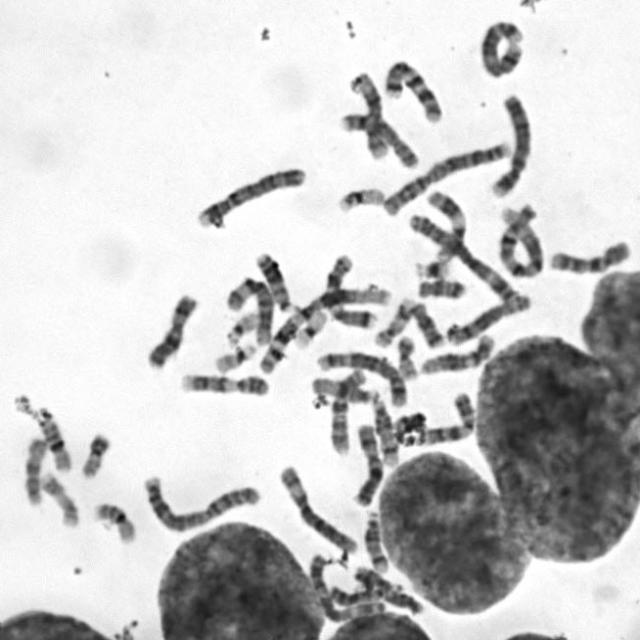A1: (254, 282, 392, 375), (493, 199, 548, 279)
A2: (378, 135, 514, 218), (137, 468, 263, 534)
A3: (404, 208, 521, 303), (306, 549, 390, 619)
B4: (190, 160, 308, 230), (486, 87, 536, 199)
B5: (311, 344, 410, 409), (474, 12, 526, 80)
C10: (325, 363, 369, 456), (544, 233, 634, 275)
C11: (349, 566, 424, 615), (421, 186, 468, 262)
C12: (346, 66, 390, 160), (418, 328, 499, 376)
C6: (273, 459, 358, 555), (221, 270, 276, 348)
C7: (320, 248, 379, 330), (379, 53, 444, 126)
C8: (440, 288, 534, 347), (334, 107, 421, 170)
C9: (398, 386, 478, 446), (175, 367, 273, 398)
D13: (252, 245, 298, 314), (324, 580, 386, 608)
D14: (364, 389, 400, 468), (359, 503, 391, 574)
D15: (305, 371, 382, 405), (18, 432, 48, 507)
E16: (34, 405, 74, 473), (88, 496, 137, 544)
E17: (34, 466, 81, 530), (371, 292, 415, 349)
E18: (404, 295, 447, 350), (413, 274, 469, 300)
F19: (332, 182, 388, 215), (289, 304, 328, 351)
F20: (75, 426, 114, 480), (392, 330, 420, 380)
G21: (410, 254, 453, 282), (388, 409, 430, 437)
G22: (208, 336, 260, 374), (222, 306, 260, 346)
X: (140, 285, 201, 371), (348, 418, 386, 507)
